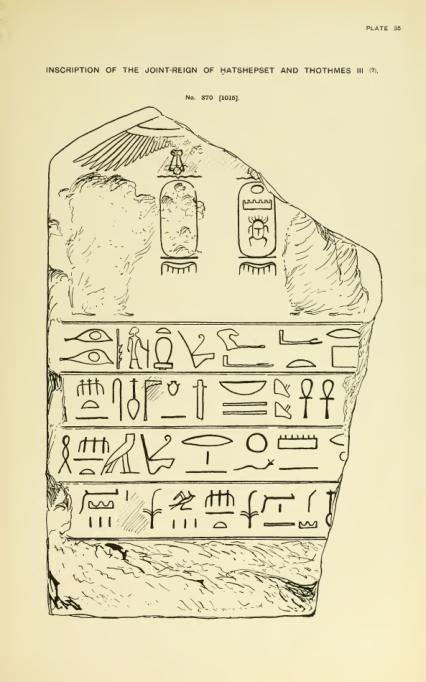circle: (155, 179, 202, 263), (235, 178, 280, 262)
